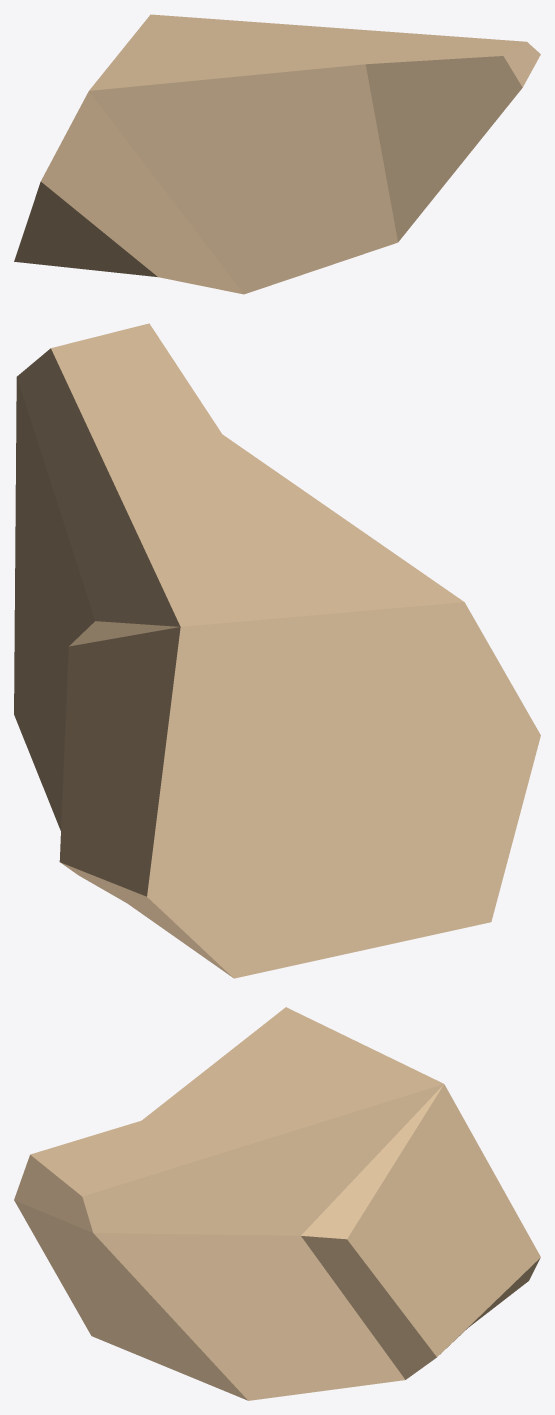
Rendered from nature_stone-pointy.fbx.
The picture shows the model from 3 angles, top to bottom: view 1: azimuth 30°, elevation 25°; view 2: azimuth 150°, elevation 25°; view 3: azimuth 270°, elevation 25°; orthographic projection. The views are drawn at different scales.
Visible parts, largest first — view 1: nature_stone_pointy; view 2: nature_stone_pointy; view 3: nature_stone_pointy.
Part boxes in pixels (box(x1,y1,x2,y2)): nature_stone_pointy: box(14, 14, 540, 294); nature_stone_pointy: box(14, 323, 540, 978); nature_stone_pointy: box(14, 1007, 540, 1400).
Size of the model in its own units: 200 by 104 by 173.
